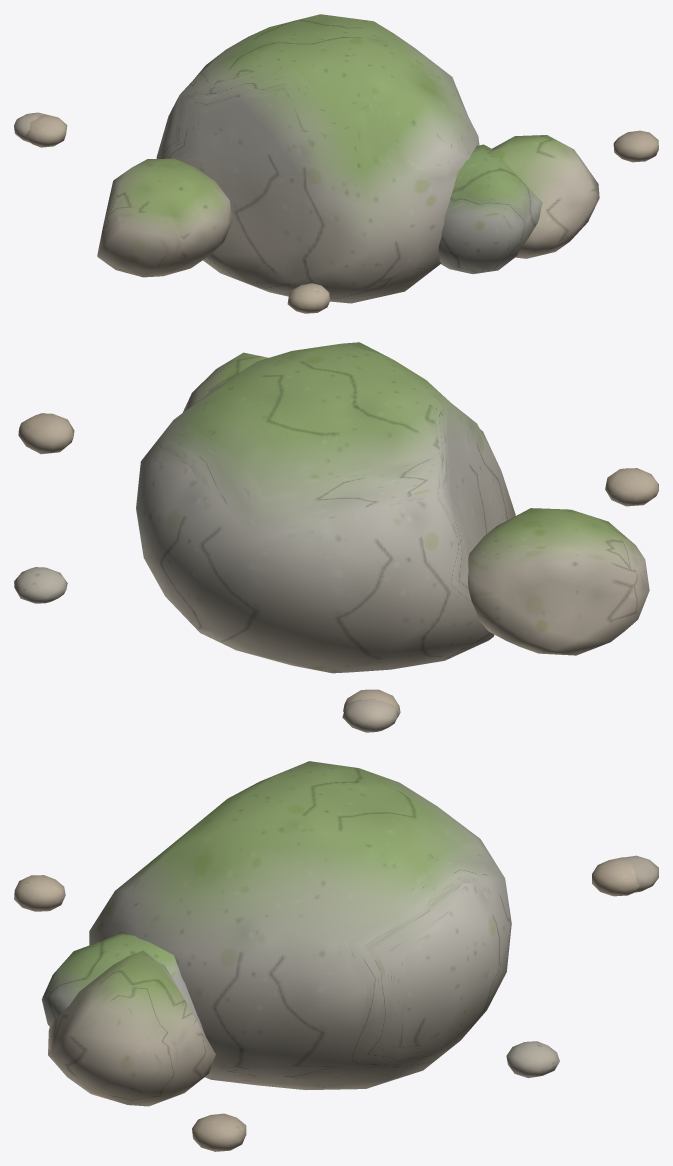
File: region-prop-22.glb
3 views of the same model, one above another, from view 1: azimuth 30°, elevation 25°; view 2: azimuth 150°, elevation 25°; view 3: azimuth 270°, elevation 25° (orthographic). The views are drawn at different scales.
Parts seen in each view (by area): view 1: props_rock_0; view 2: props_rock_0; view 3: props_rock_0.
Boxes of the visible parts, bbox=[...] form: props_rock_0: bbox=[14, 14, 658, 313]; props_rock_0: bbox=[14, 342, 658, 732]; props_rock_0: bbox=[14, 761, 658, 1151].
Size of the model in its own units: 3.25 by 1.33 by 2.8.
Materials: 1 (1 with a texture image).
